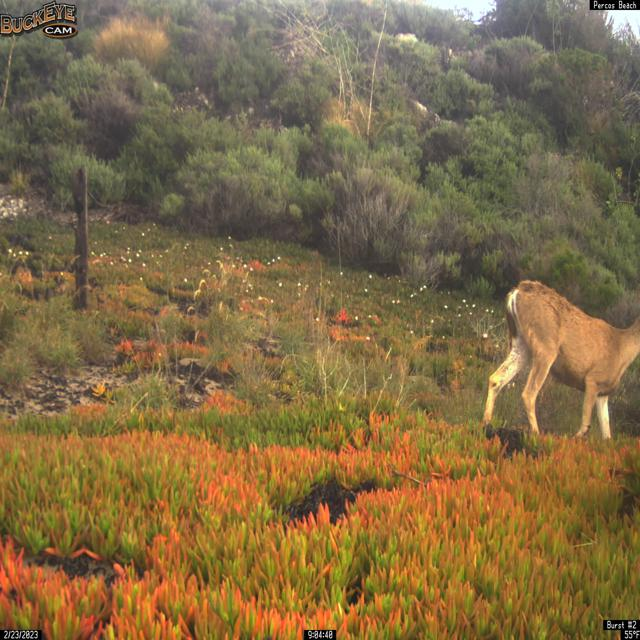deer: (481, 273, 640, 443)
